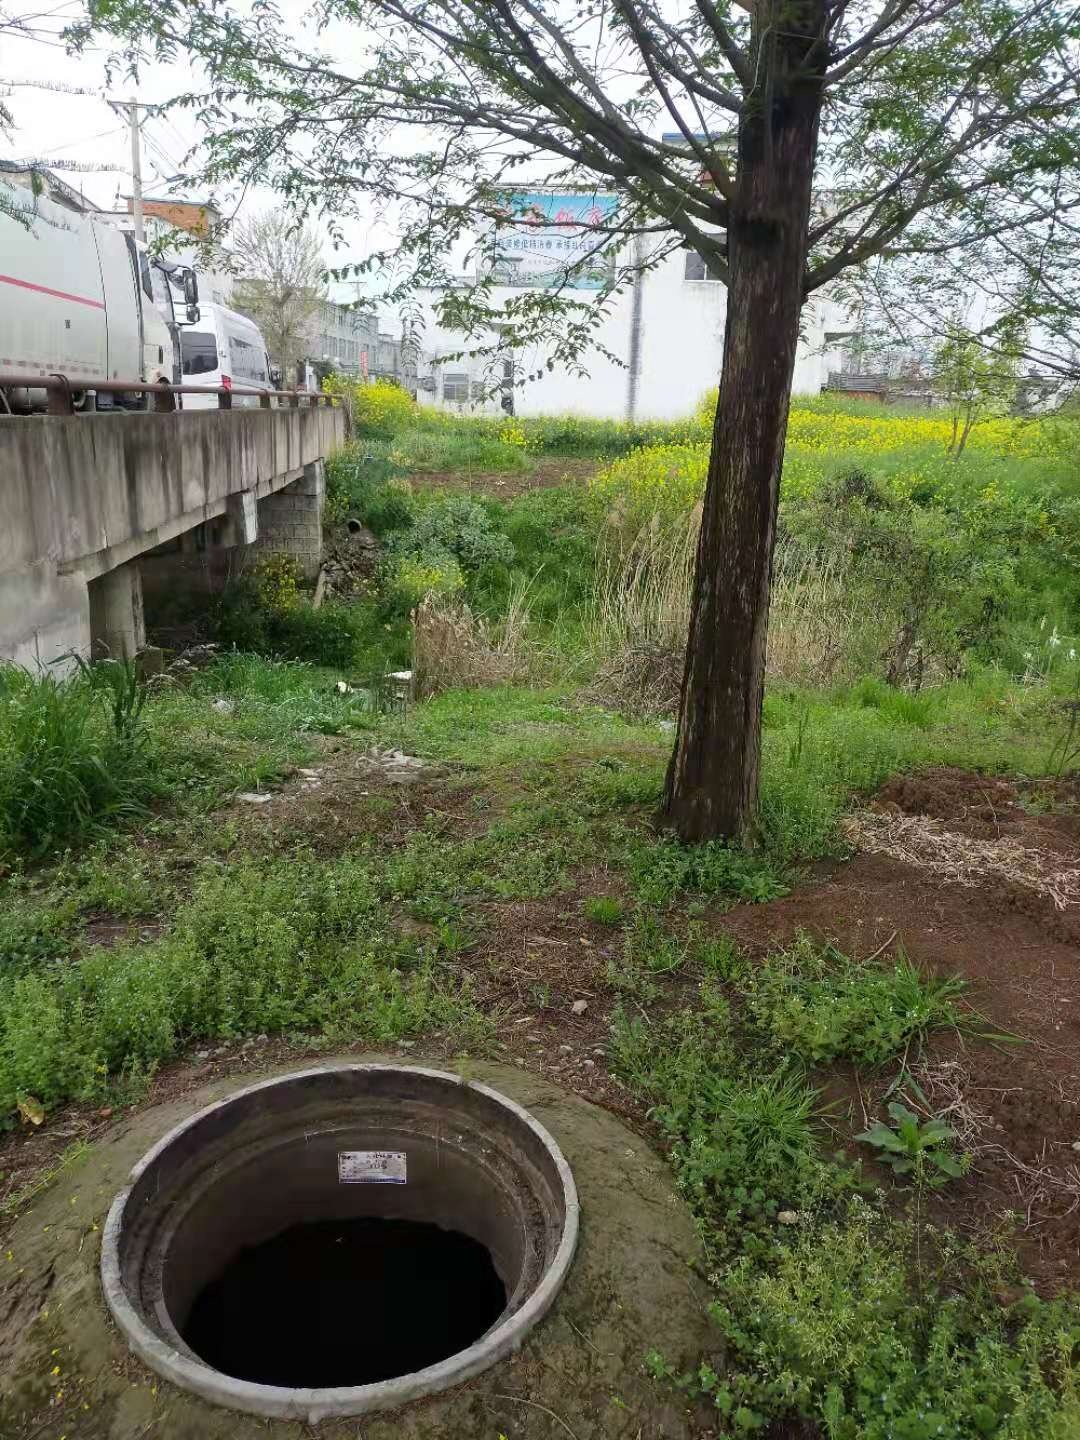well: (98, 1061, 587, 1413)
